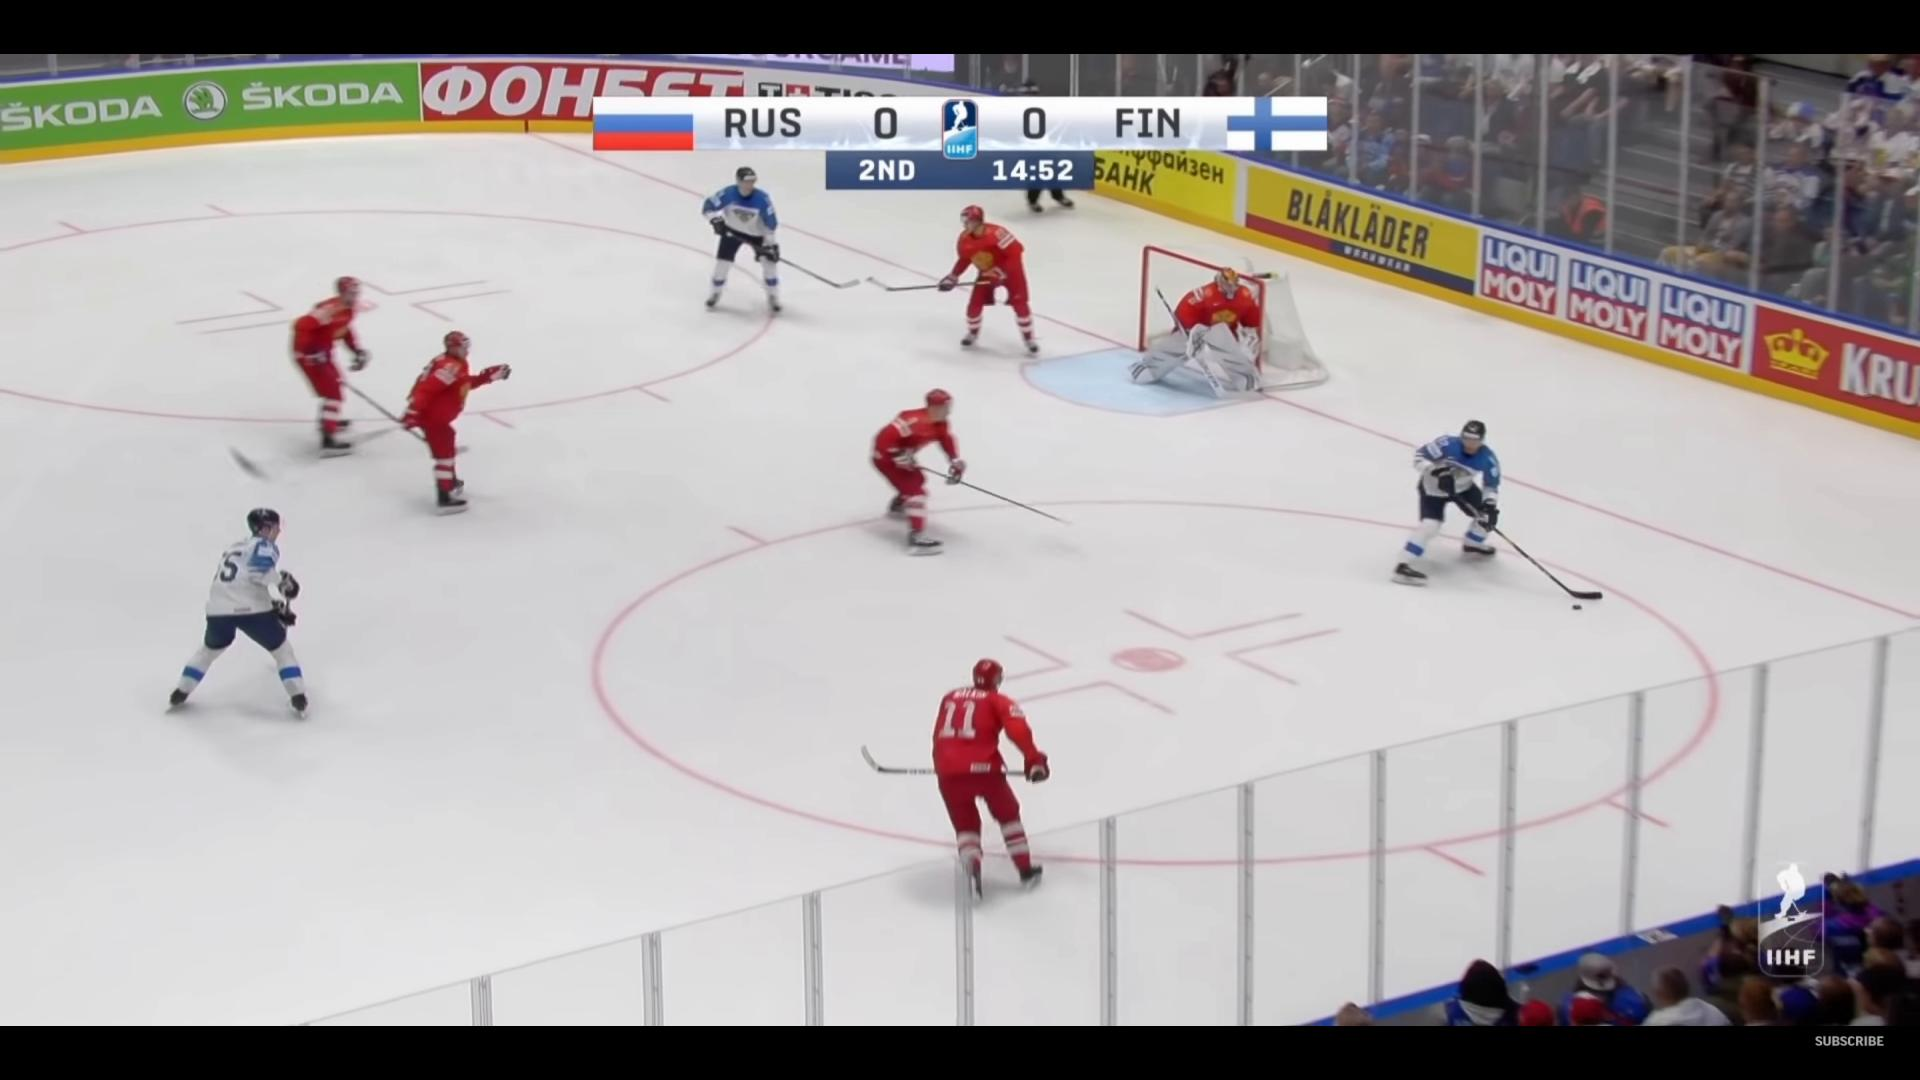puck: (1571, 604, 1581, 609)
